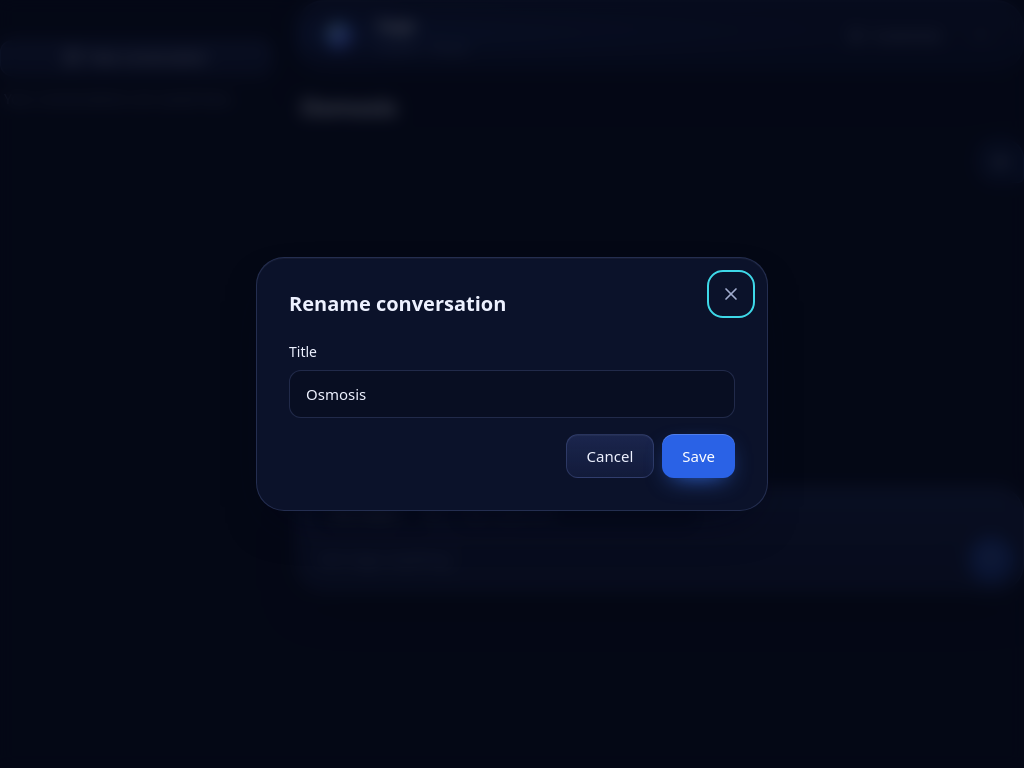
Test: Tutor workspace › renames a conversation
Earlier steps of the test are not shown.
Replace the text in the field labelled "Title" with "Water potential". click: (512, 394)
box: [289,370,735,418]
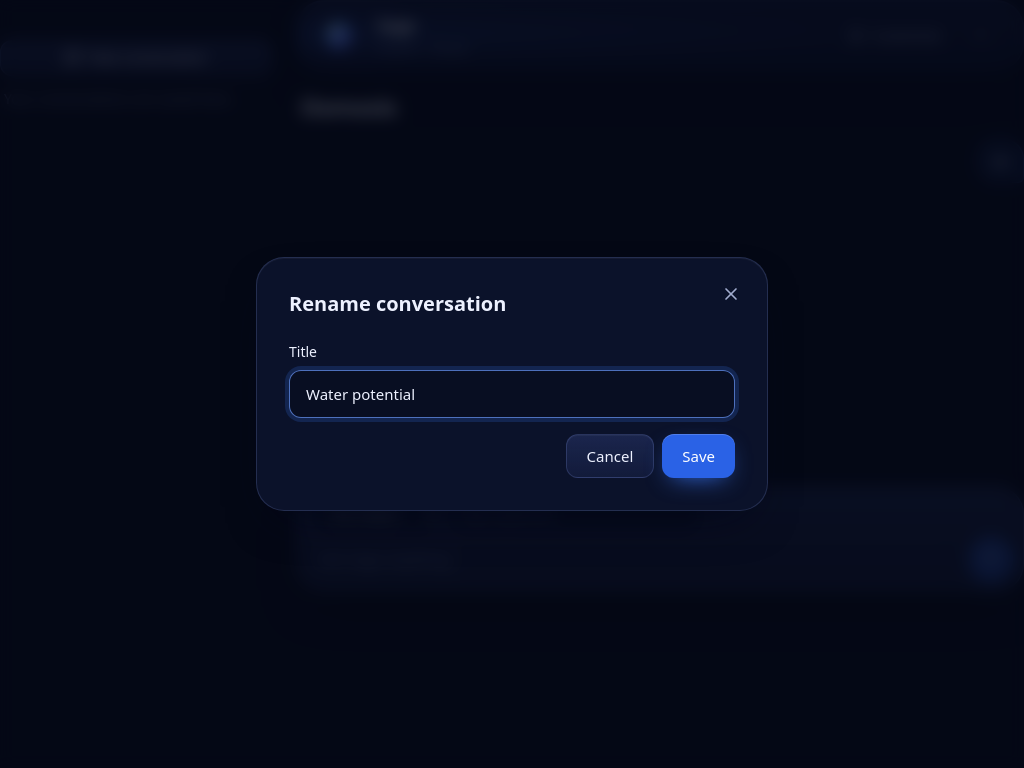
Click the button "Save". click: (699, 456)
box: [662,434,735,478]
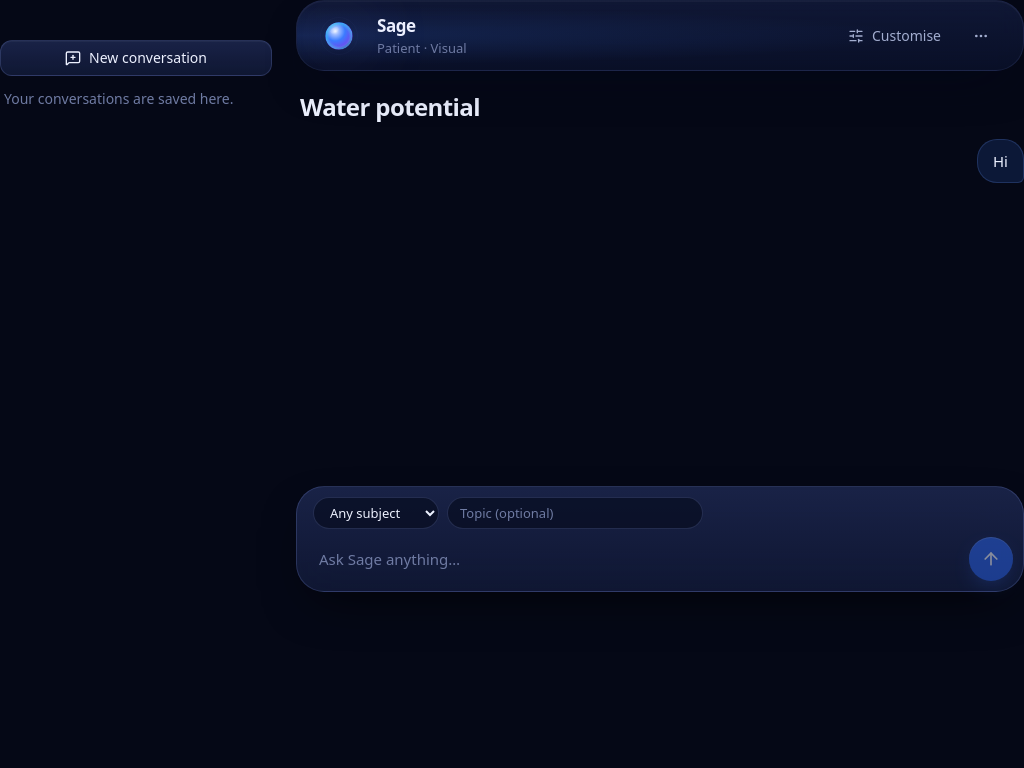
Expected: the heading "Water potential" is shown, [300,90,480,123]
